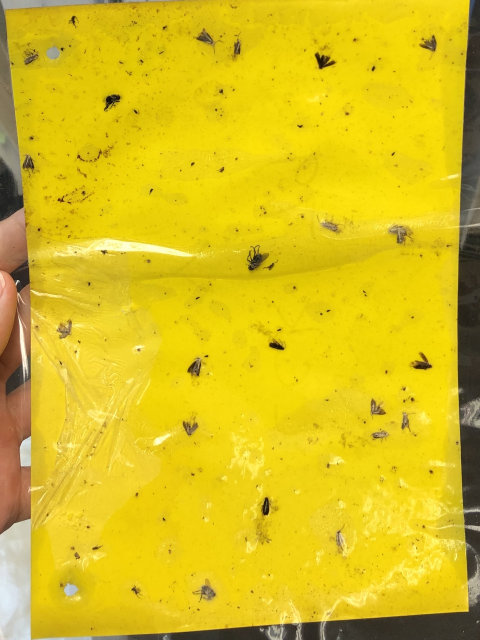DBM: (193, 26, 224, 56), (315, 213, 343, 236), (417, 34, 440, 61), (313, 51, 337, 72), (185, 356, 206, 380), (177, 416, 201, 437), (398, 410, 419, 434), (368, 398, 389, 421), (230, 31, 245, 59), (369, 426, 391, 444), (335, 521, 348, 551), (55, 320, 73, 340), (22, 50, 41, 68), (258, 495, 273, 516), (20, 154, 36, 173), (266, 339, 287, 352), (396, 228, 409, 247), (386, 224, 409, 234)
